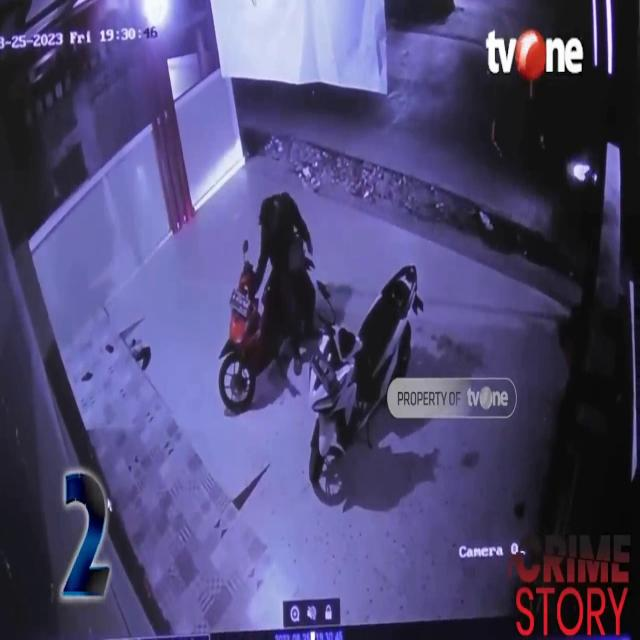pencurian: (229, 195, 317, 365)
